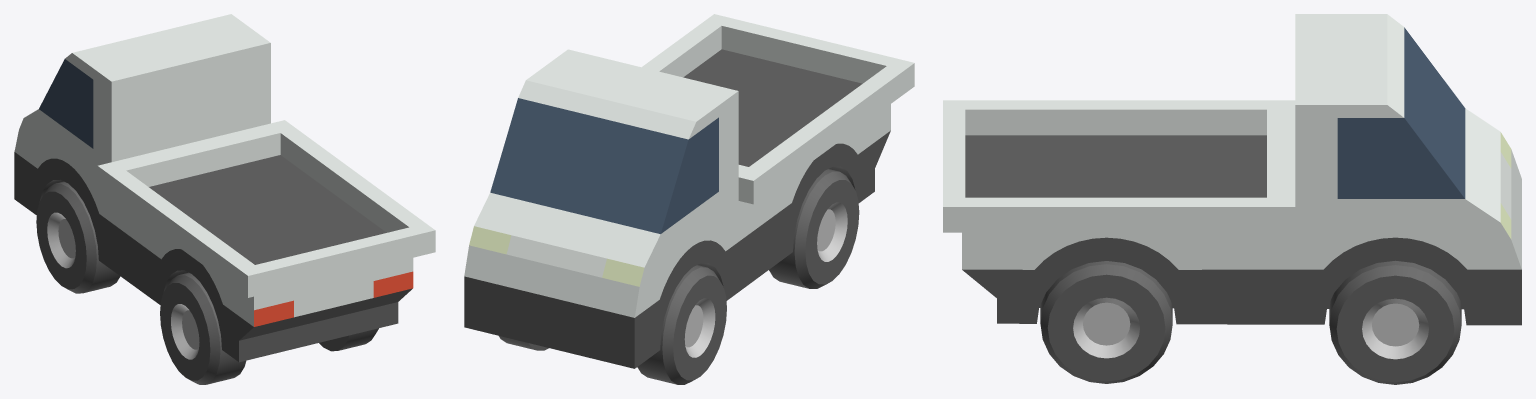
File: carTruckFlat.fbx
The picture shows the model from 3 angles, left to right: view 1: azimuth 30°, elevation 25°; view 2: azimuth 150°, elevation 25°; view 3: azimuth 270°, elevation 25°; orthographic projection. The views are drawn at different scales.
Visible parts, largest first — view 1: body 12, wheelBackLeft 12, wheelFrontLeft 12, wheelBackRight 12; view 2: body 12, wheelBackLeft 12, wheelFrontLeft 12; view 3: body 12, wheelFrontRight 12, wheelBackRight 12.
Boxes of the visible parts, bbox=[...] form: body 12: bbox=[14, 14, 435, 362]; wheelBackLeft 12: bbox=[160, 272, 246, 384]; wheelFrontLeft 12: bbox=[36, 181, 120, 293]; wheelBackRight 12: bbox=[319, 328, 378, 351]; body 12: bbox=[464, 14, 914, 368]; wheelBackLeft 12: bbox=[769, 169, 859, 288]; wheelFrontLeft 12: bbox=[637, 265, 726, 384]; body 12: bbox=[943, 14, 1521, 325]; wheelFrontRight 12: bbox=[1329, 260, 1461, 384]; wheelBackRight 12: bbox=[1040, 261, 1172, 383].
Size of the model in its own units: 5.35 by 6.57 by 12.25.
